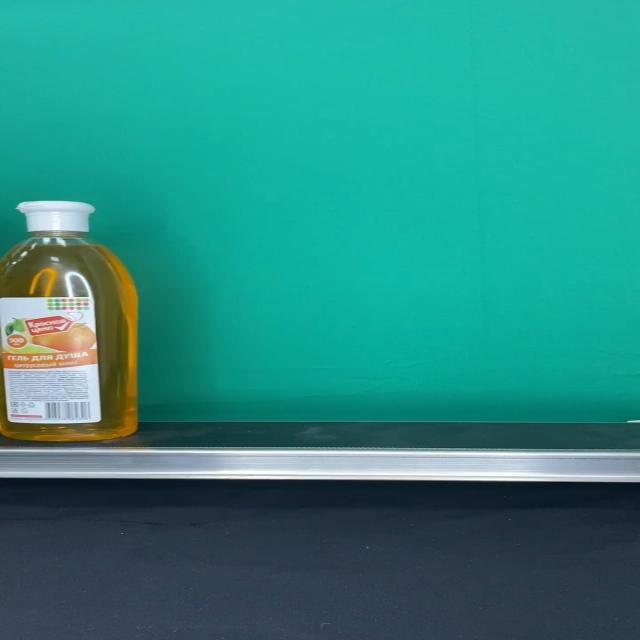Bottle: (0, 200, 139, 442)
Cap: (15, 200, 94, 232)
